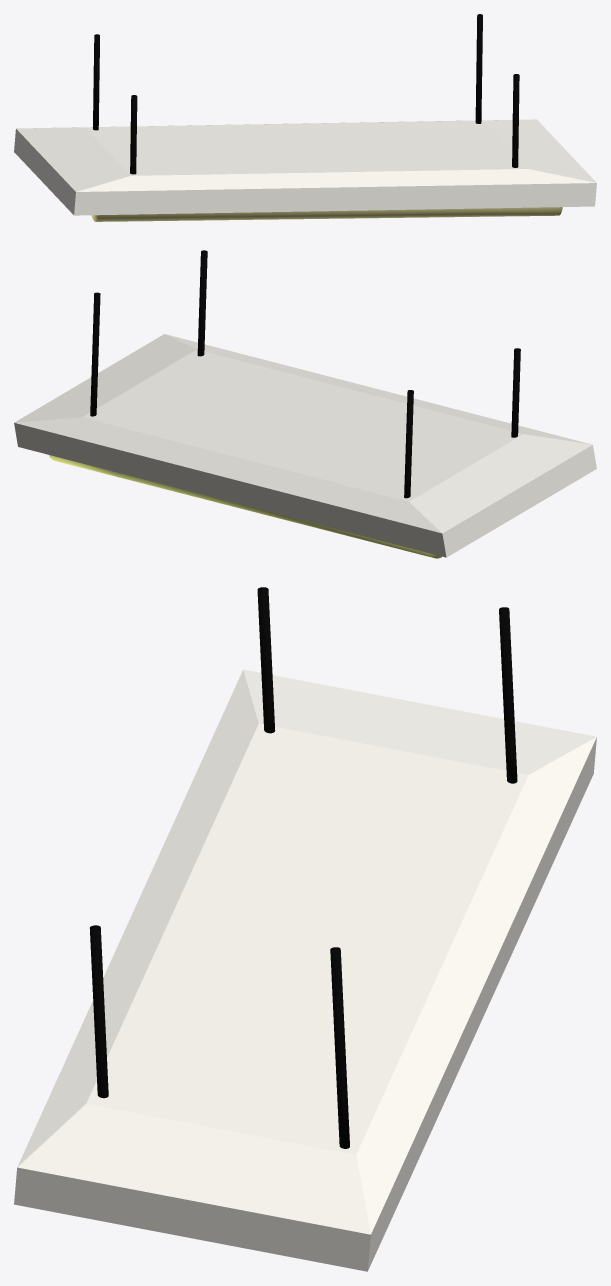
File: BROKENLIGHTFIXTURE.fbx
3 views of the same model, one above another, from view 1: azimuth 30°, elevation 25°; view 2: azimuth 150°, elevation 25°; view 3: azimuth 270°, elevation 25° (orthographic). The views are drawn at different scales.
Parts seen in each view (by area): view 1: Cylinder.003; view 2: Cylinder.003; view 3: Cylinder.003.
Boxes of the visible parts, x1=… form: Cylinder.003: x1=14, y1=14, x2=596, y2=221; Cylinder.003: x1=14, y1=250, x2=596, y2=558; Cylinder.003: x1=14, y1=587, x2=596, y2=1271.
Size of the model in its own units: 215 by 76.85 by 122.
